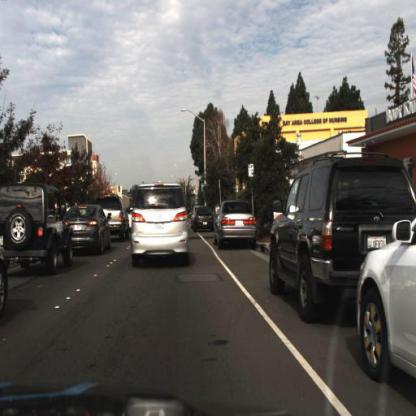car: (270, 152, 416, 316), (357, 210, 416, 393), (8, 172, 77, 288), (2, 183, 77, 273), (130, 181, 188, 263), (68, 205, 113, 253), (215, 199, 257, 250), (105, 196, 130, 242), (192, 206, 217, 235)
